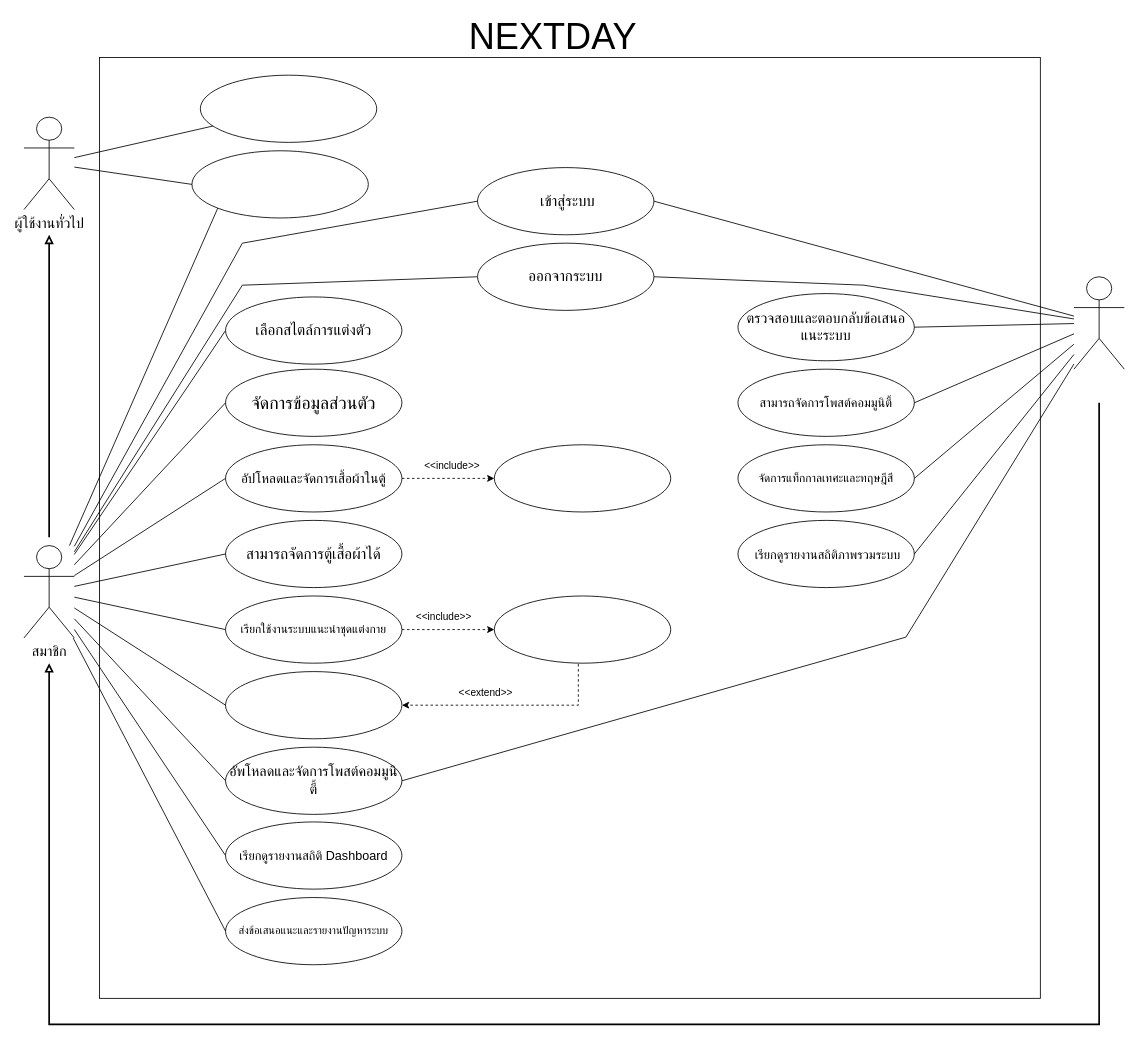
Some shapes in this 1142 by 1046 pixel diagram are drawn without their labels. Each missing label, with the box of its shape:
จัดชุดแต่งกายด้วยตนเอง: (225, 671, 402, 739)
ดูข้อมูลคอมมูนิตี้แฟชั่น: (191, 150, 368, 218)
ผู้ดูแลระบบ: (1073, 276, 1124, 369)
รับบทวิเคราะห์จาก AI: (494, 595, 671, 663)
สมัครสมาชิก: (200, 74, 377, 142)
สแกนสกัดสีและประเภทอัตโนมัติด้วย AI: (494, 444, 671, 512)
